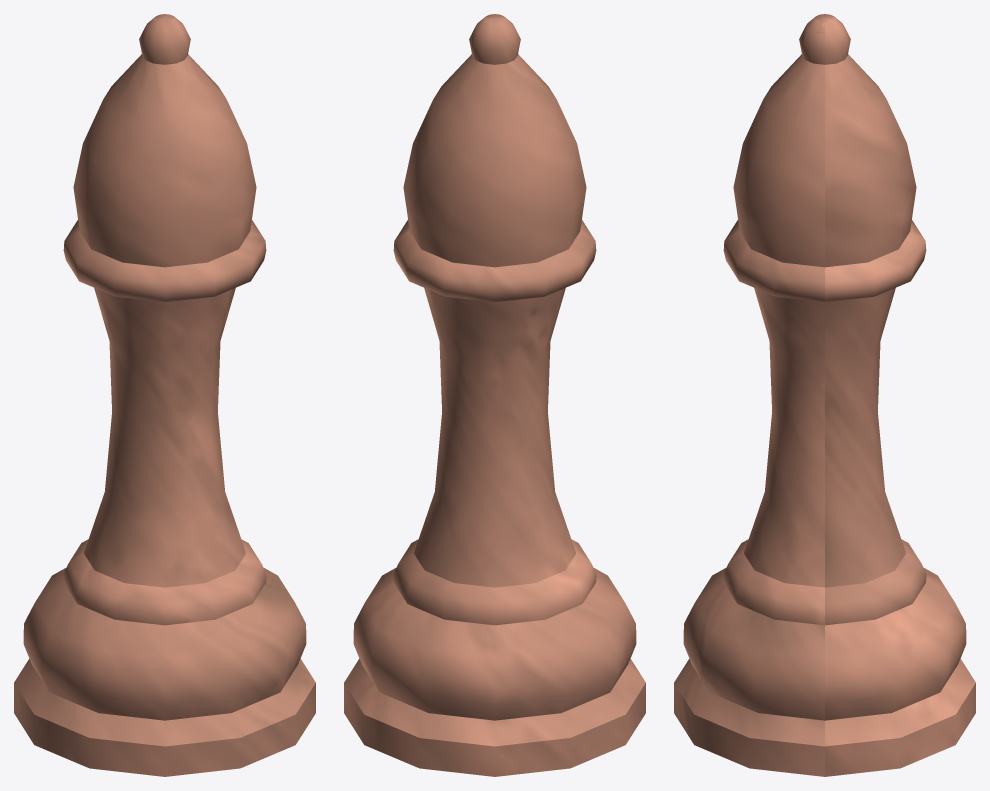
The model's file is Chess_White_rook.fbx.
The picture shows the model from 3 angles, left to right: view 1: azimuth 30°, elevation 25°; view 2: azimuth 150°, elevation 25°; view 3: azimuth 270°, elevation 25°; orthographic projection.
Visible parts, largest first — view 1: Chess_pawn.008; view 2: Chess_pawn.008; view 3: Chess_pawn.008.
Boxes of the visible parts, left/top/right/bottom form: Chess_pawn.008: left=14, top=14, right=315, bottom=776; Chess_pawn.008: left=344, top=14, right=645, bottom=776; Chess_pawn.008: left=674, top=14, right=975, bottom=776.
Size of the model in its own units: 22.17 by 56.29 by 22.17.
